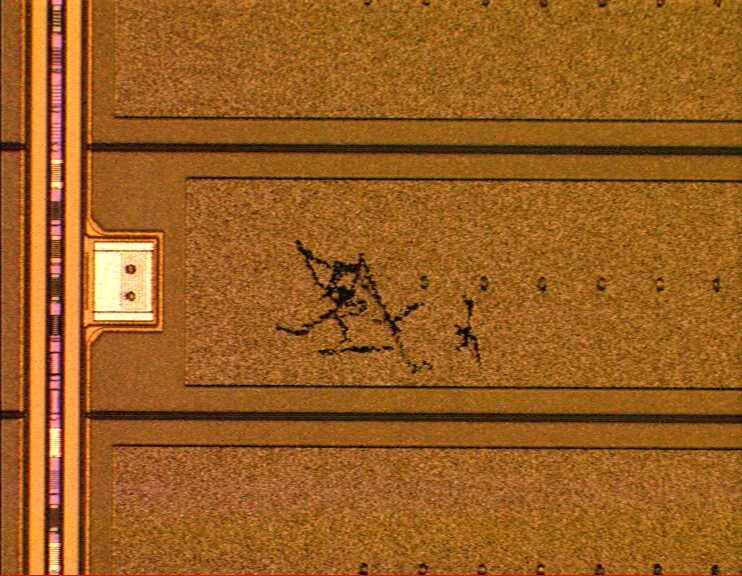SCRATCH: (267, 234, 492, 375)
